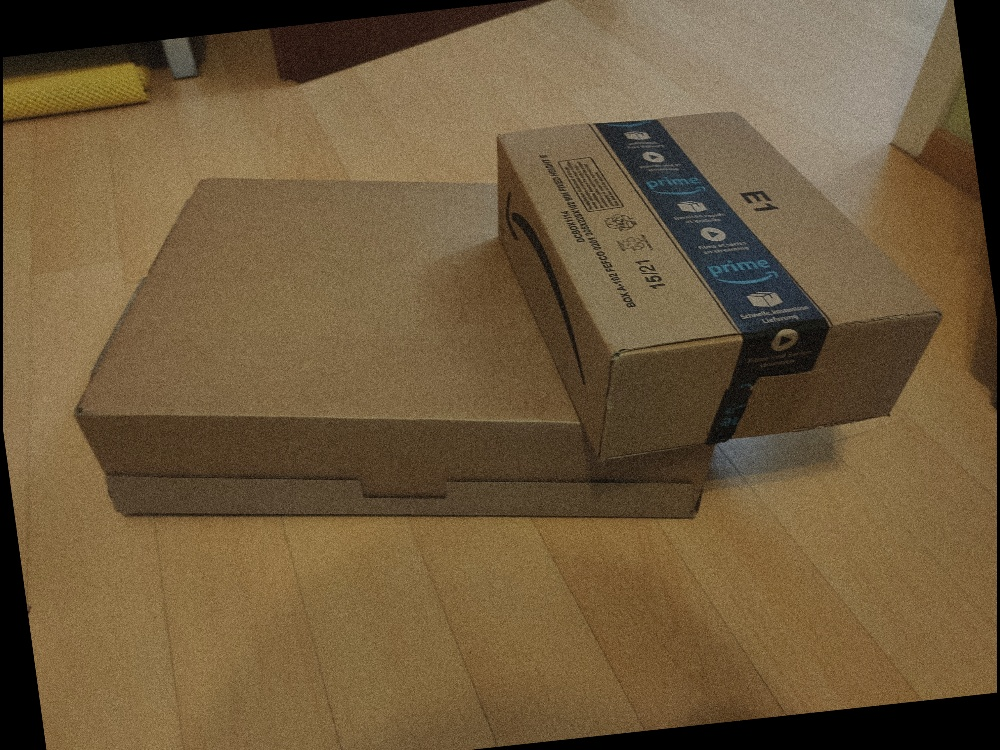good-parcel: (73, 173, 716, 528), (477, 111, 968, 453)
